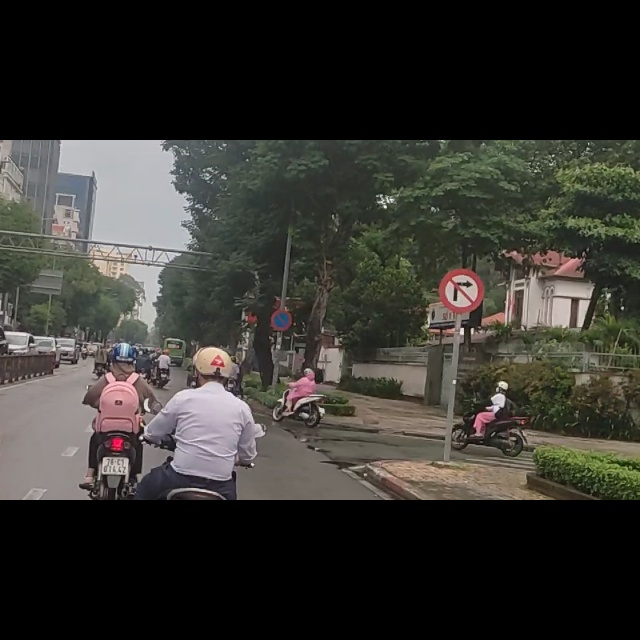bien_cam: (439, 229, 485, 309), (270, 300, 292, 339)
